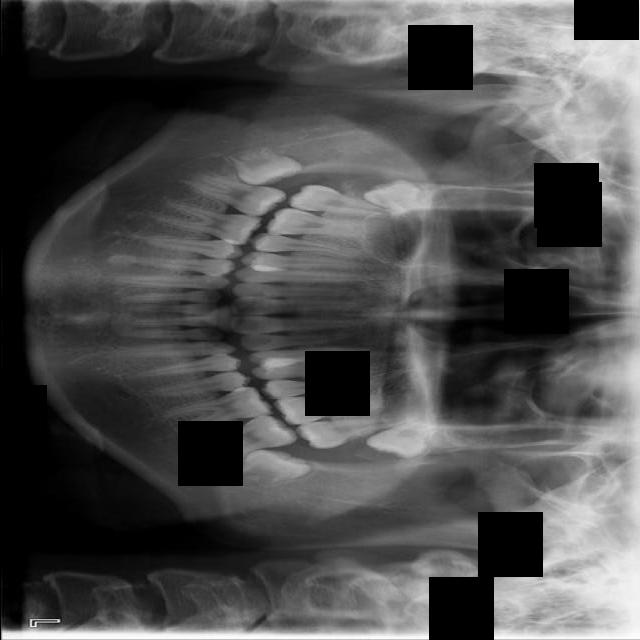3M ESPE Implant: (360, 163, 441, 233)
73: (14, 619, 20, 629)
BioHorizons Implant: (294, 407, 427, 453)
BioLife Implant: (363, 404, 464, 472)
Biomet 3i Implant: (229, 448, 310, 488)
Blue Sky Bio Implant: (196, 407, 299, 466)
Caries: (286, 181, 411, 224)
Implant: (181, 169, 287, 223)
Keystone Dental Implant: (227, 148, 302, 185)
